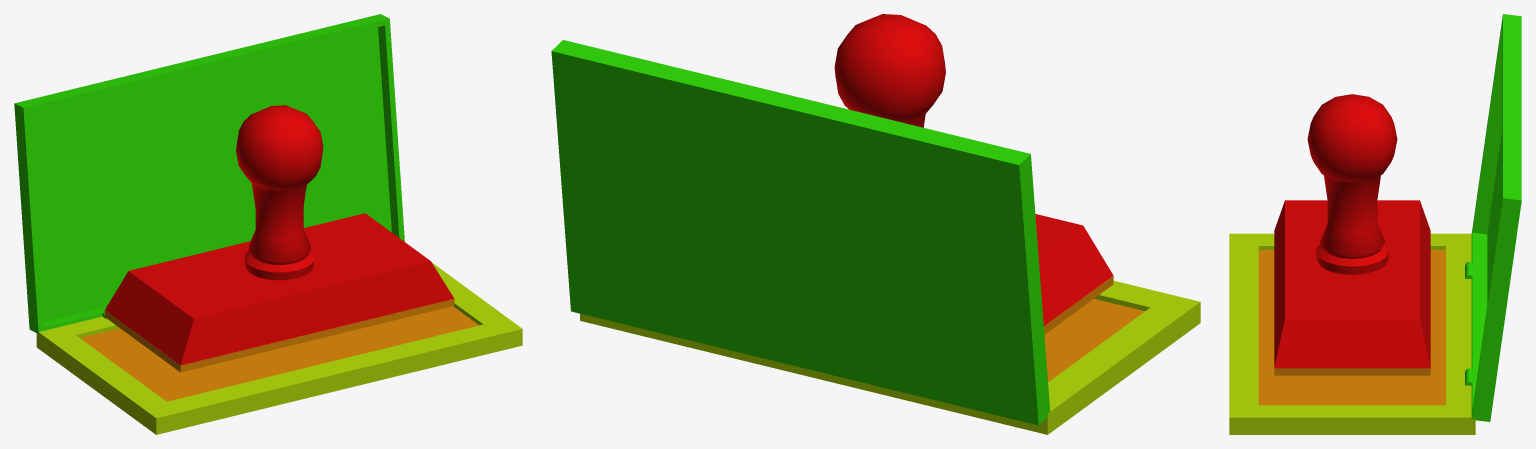
File: Stamp.fbx
3 views of the same model, side by side, from view 1: azimuth 30°, elevation 25°; view 2: azimuth 150°, elevation 25°; view 3: azimuth 270°, elevation 25° (orthographic). The views are drawn at different scales.
Parts seen in each view (by area): view 1: Stamp(Bake); view 2: Stamp(Bake); view 3: Stamp(Bake).
Boxes of the visible parts, x1,y1,x2,y2 form: Stamp(Bake): (14, 14, 522, 434); Stamp(Bake): (551, 14, 1200, 434); Stamp(Bake): (1229, 14, 1521, 434).
Bounding box in the file's own units: 35.18 × 21.74 × 23.62.
